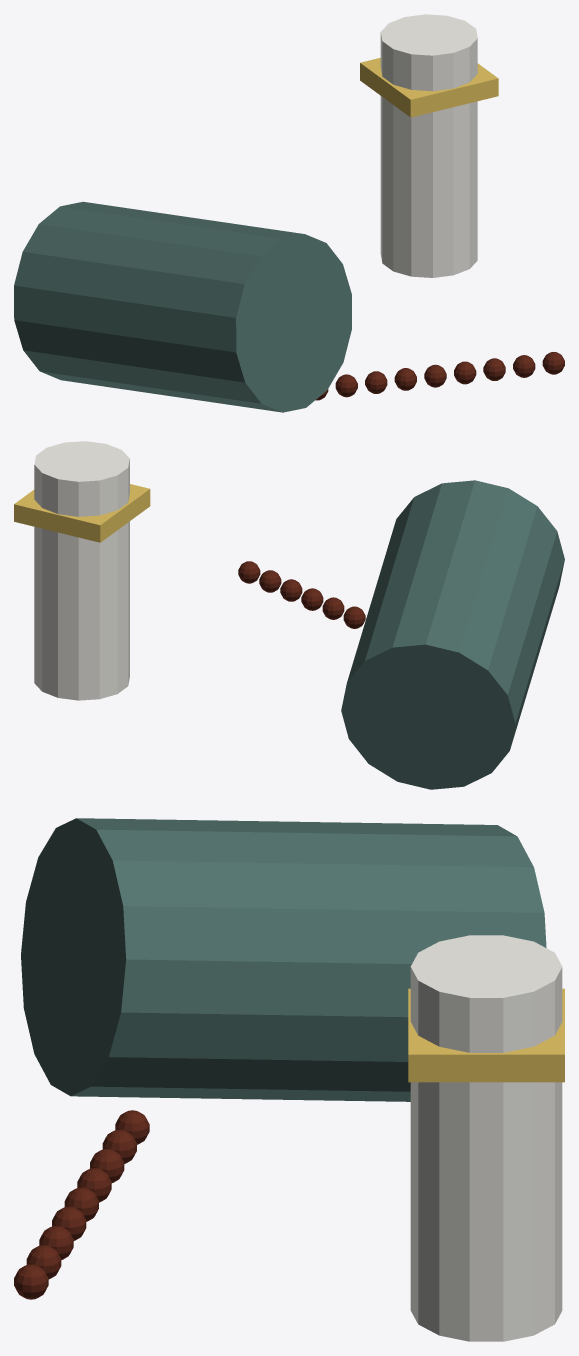
File: shore_buoys.glb
3 renders of one model, top to bottom at view 1: azimuth 30°, elevation 25°; view 2: azimuth 150°, elevation 25°; view 3: azimuth 270°, elevation 25°, orthographic. The views are drawn at different scales.
Parts seen in each view (by area): view 1: shore_buoys; view 2: shore_buoys; view 3: shore_buoys.
Boxes of the visible parts, x1=… form: shore_buoys: x1=14, y1=14, x2=564, y2=412; shore_buoys: x1=14, y1=441, x2=564, y2=789; shore_buoys: x1=14, y1=818, x2=564, y2=1341.
Size of the model in its own units: 3.33 by 1.7 by 2.18.
